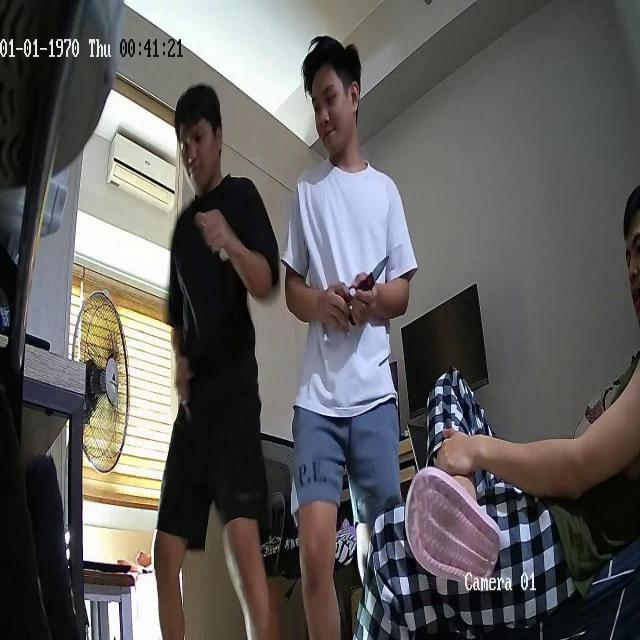scissor: (348, 253, 388, 327)
